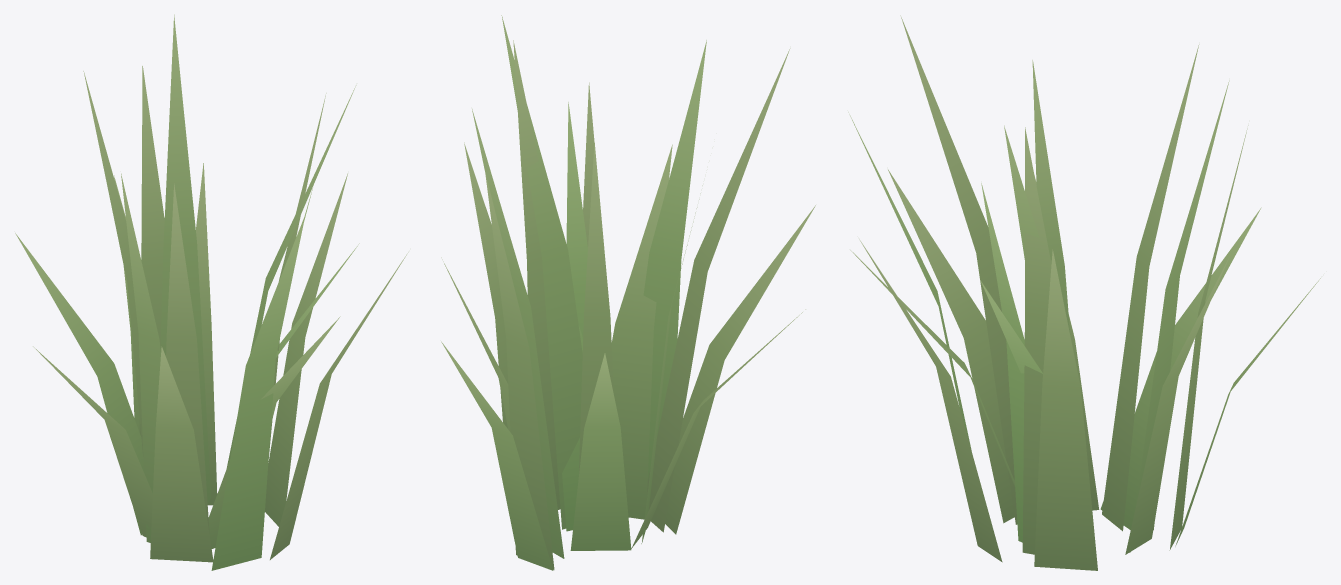
Rendered from grass.glb.
3 views of the same model, side by side, from view 1: azimuth 30°, elevation 25°; view 2: azimuth 150°, elevation 25°; view 3: azimuth 270°, elevation 25° (orthographic). The views are drawn at different scales.
Visible parts, largest first — view 1: grass; view 2: grass; view 3: grass.
Boxes of the visible parts, bbox=[...] form: grass: bbox=[15, 14, 408, 570]; grass: bbox=[441, 15, 815, 570]; grass: bbox=[848, 15, 1320, 570].
Size of the model in its own units: 0.4471 by 0.5943 by 0.5379.
